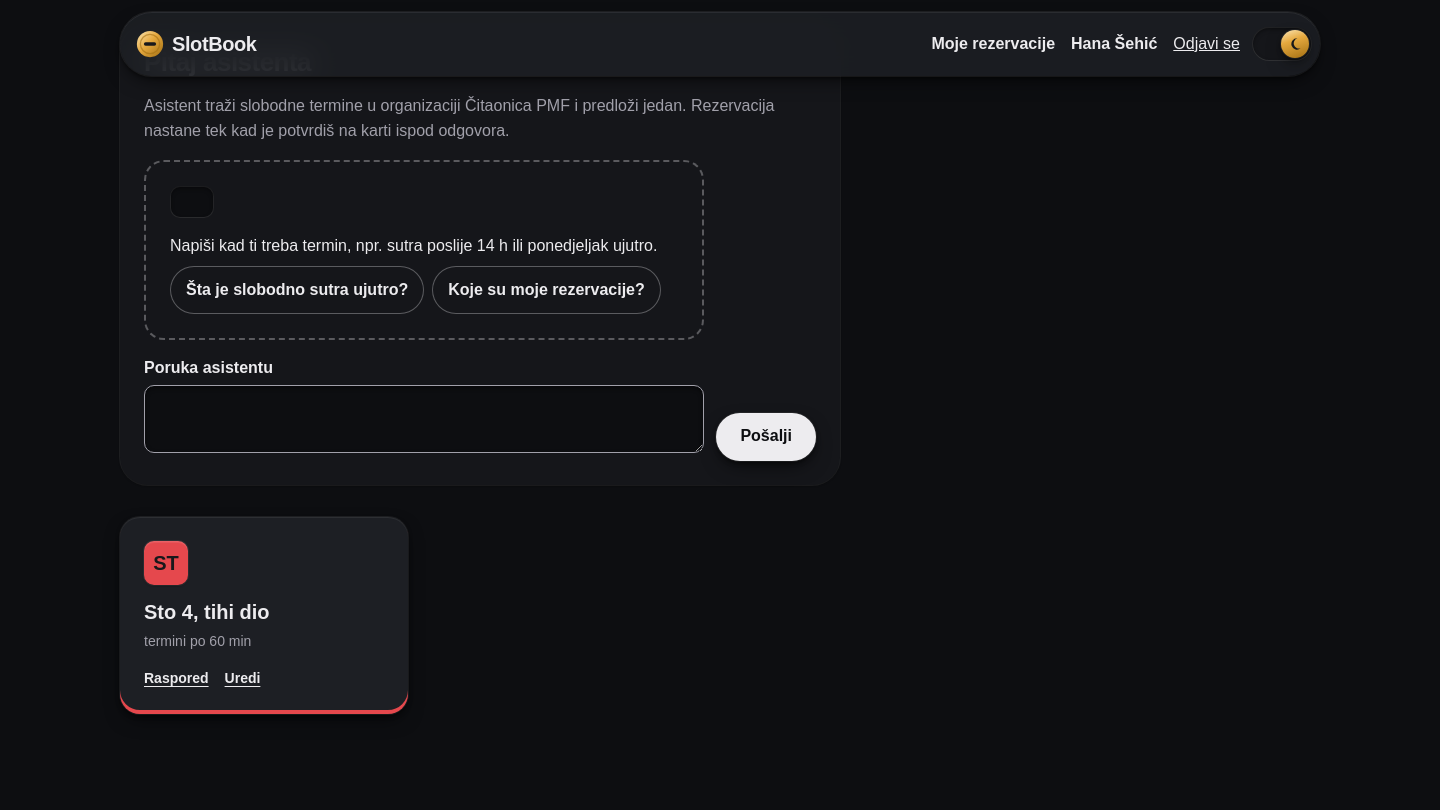
Test: karta pokazuje sat organizacije i kad je uređaj u drugoj zoni
This screenshot has width=1440, height=810.
(page scrolled)
In the text box labelled "Poruka asistentu": coordinates (424, 419) [144,385,704,453], type "Sto 4 sutra"
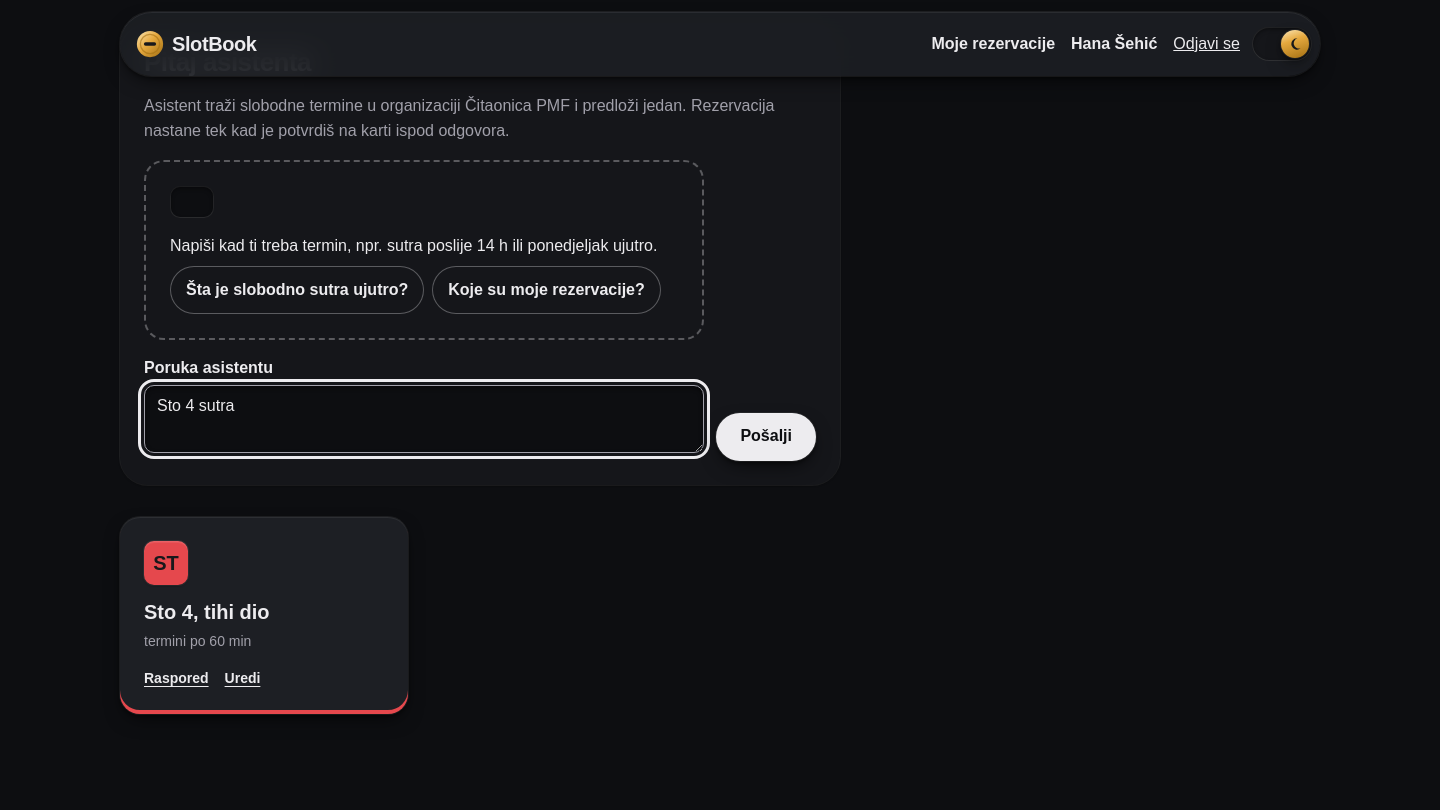
Click the button "Pošalji": coordinates (766, 437) [716,413,816,461]
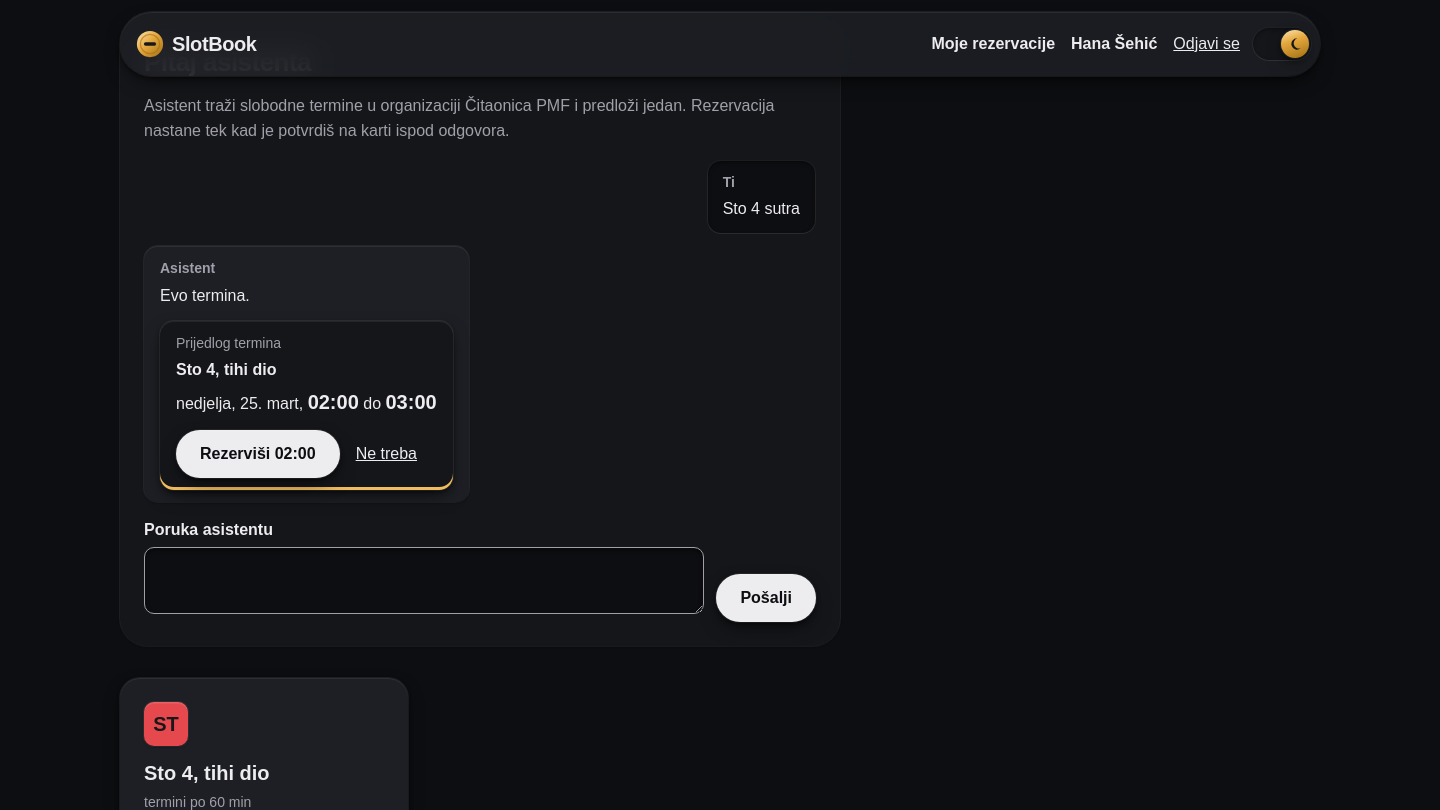
Now the button "Rezerviši 02:00" is shown, box [176,430,340,478]
